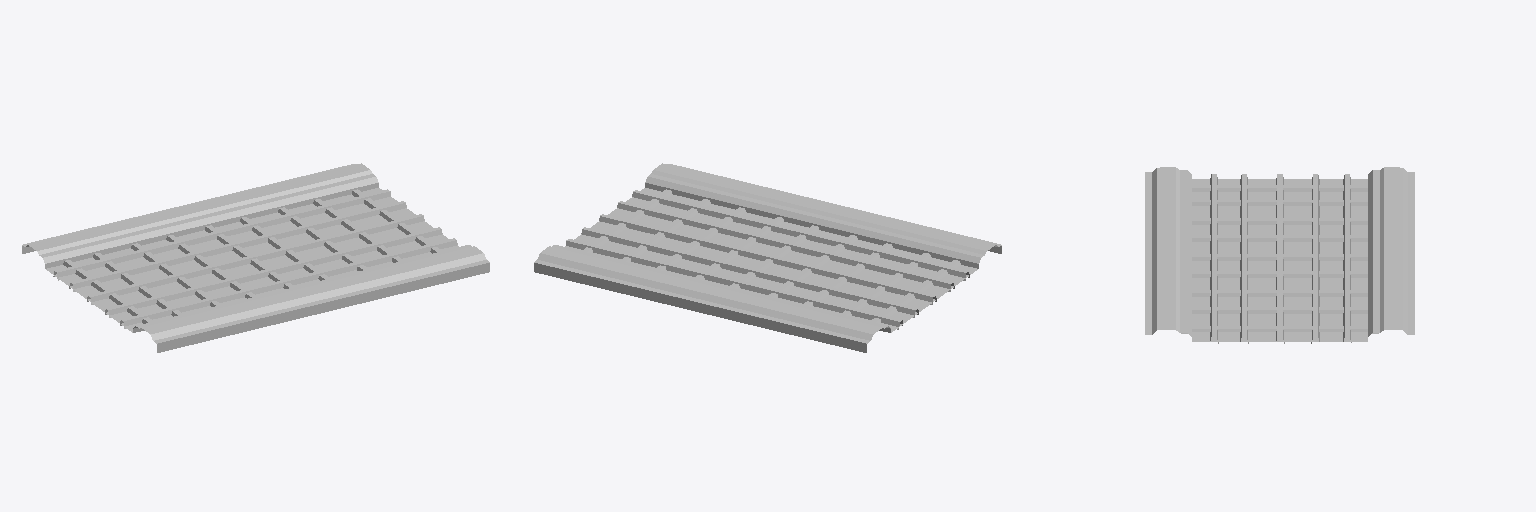
File: Grate.obj
The picture shows the model from 3 angles: view 1: azimuth 30°, elevation 25°; view 2: azimuth 150°, elevation 25°; view 3: azimuth 270°, elevation 25°; orthographic projection.
Visible parts, largest first — view 1: Grate; view 2: Grate; view 3: Grate.
Part boxes in pixels (bbox=[...]): Grate: bbox=[22, 163, 489, 352]; Grate: bbox=[534, 163, 1001, 352]; Grate: bbox=[1145, 167, 1414, 343].
Bounding box in the file's own units: 1.69 × 0.0703 × 1.18.